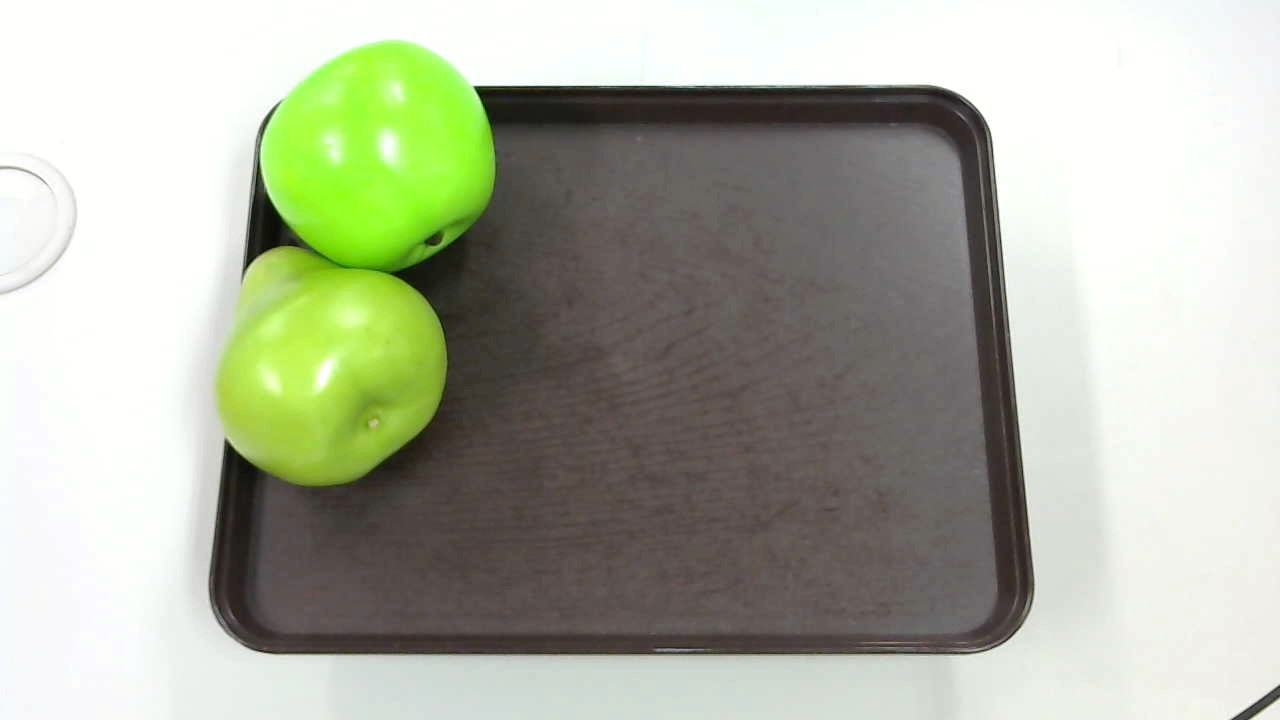green apple: (256, 34, 491, 274)
green pear: (221, 244, 447, 490)
